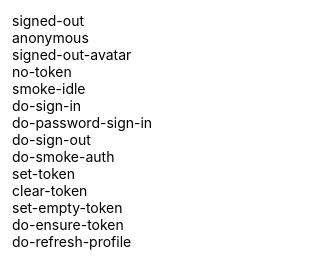
Test case: SessionProvider › signs in with email and password through the same token store as OAuth
Check: the text "signed-out" is shown, box x1=12 y1=12 x2=84 y2=29
What coordinates should you click on to do the following:
click the text "do-password-sign-in"
I would click on:
 (82, 122)
Its box is x1=12 y1=114 x2=152 y2=131.
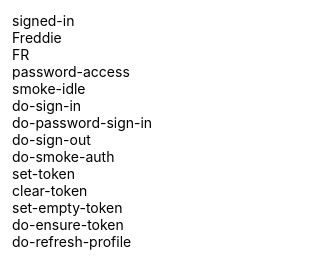
Check: the text "signed-in" is shown, box x1=12 y1=12 x2=74 y2=29
